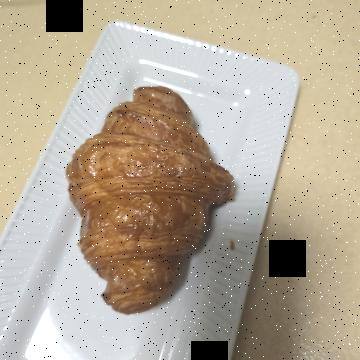croissant: (60, 113, 323, 301)
